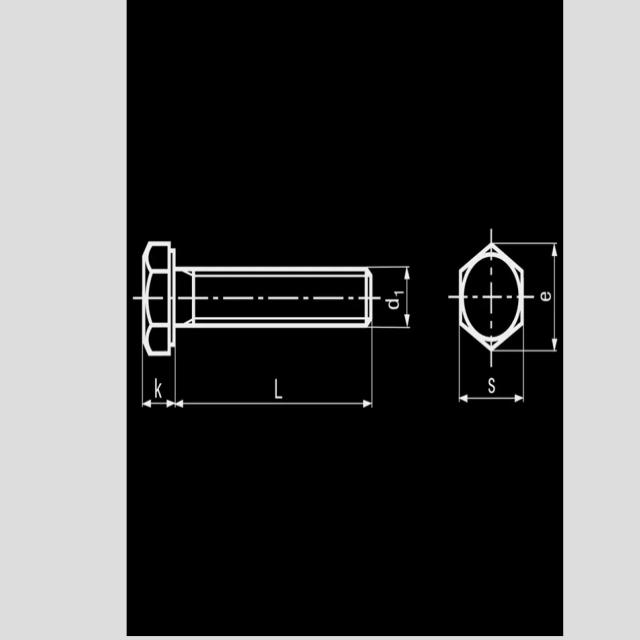marking_line: (177, 399, 372, 412), (550, 246, 559, 350), (461, 395, 523, 404), (403, 270, 412, 327), (144, 401, 173, 410)
